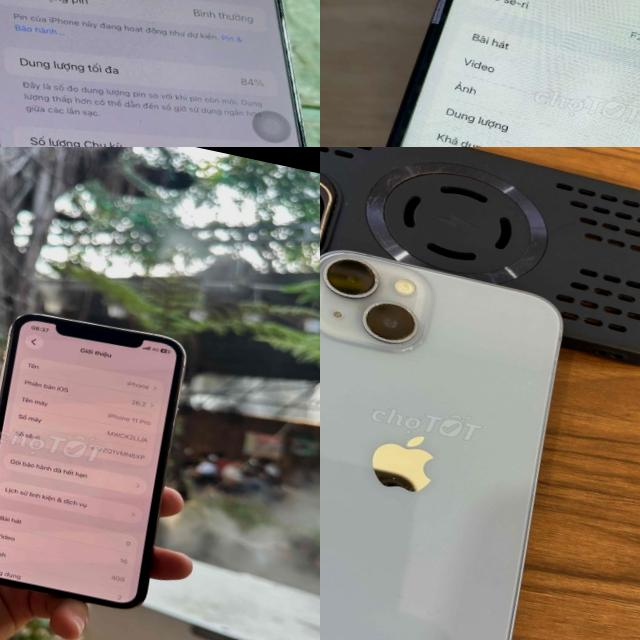gen_11: (0, 302, 204, 620)
gen_14: (320, 231, 596, 640)
gen_15: (0, 0, 320, 147)
gen_x_xs: (386, 0, 640, 147)
